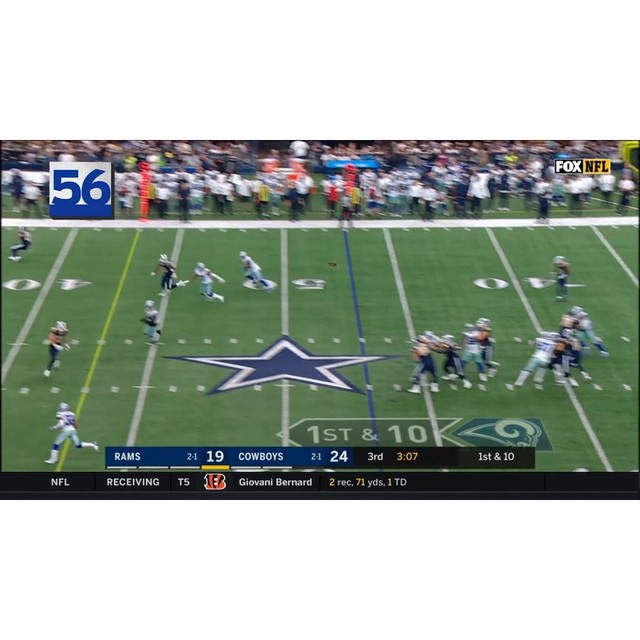american-football-player: (44, 402, 98, 464), (507, 329, 557, 391), (407, 332, 442, 394), (459, 322, 490, 386), (41, 321, 74, 378), (437, 333, 469, 389), (575, 306, 609, 358), (150, 253, 187, 297), (188, 262, 226, 303), (476, 316, 500, 378), (239, 250, 274, 291), (138, 299, 164, 345), (550, 254, 573, 302), (8, 225, 34, 262), (558, 307, 580, 337)
